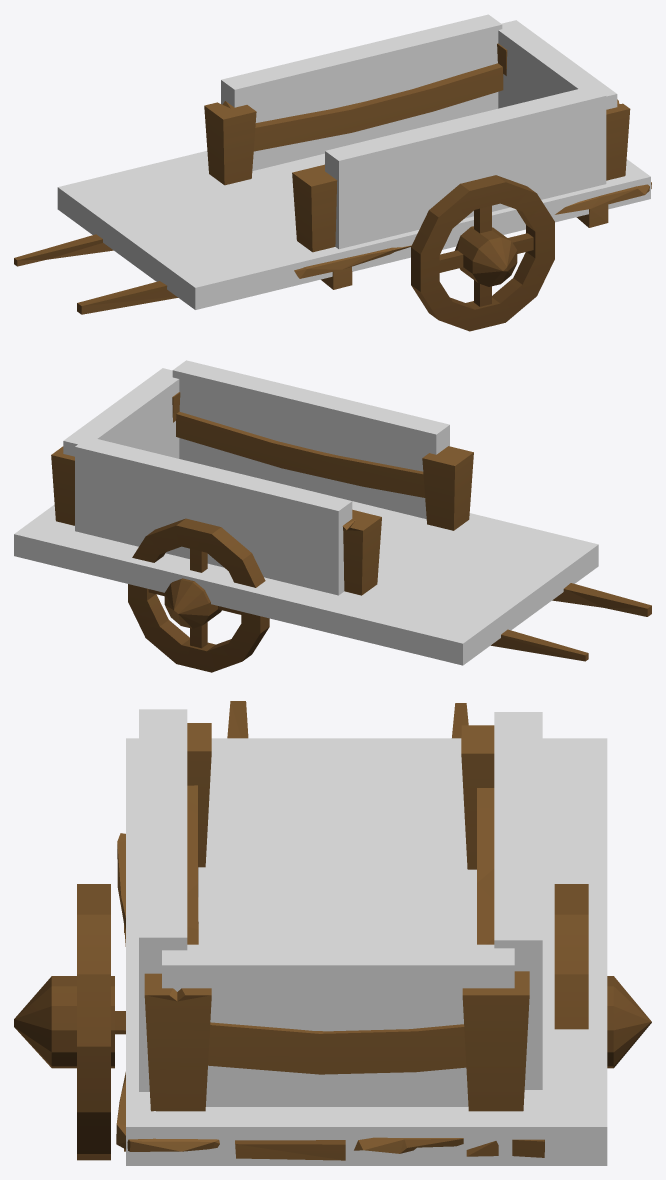
The model's file is cart_1.glb.
The picture shows the model from 3 angles, top to bottom: view 1: azimuth 30°, elevation 25°; view 2: azimuth 150°, elevation 25°; view 3: azimuth 270°, elevation 25°; orthographic projection. The views are drawn at different scales.
Parts seen in each view (by area): view 1: Cart_01, Cube.001, Cube.011, Cube.002, Cube.003; view 2: Cube.001, Cart_01, Cube.002, Cube.011, Cube.003; view 3: Cube.001, Cart_01, Cube.003, Cube.002, Cube.011.
Part boxes in pixels (bbox=[...]): Cart_01: bbox=[14, 43, 651, 331]; Cube.001: bbox=[57, 151, 650, 309]; Cube.011: bbox=[325, 85, 606, 249]; Cube.002: bbox=[221, 14, 502, 170]; Cube.003: bbox=[498, 20, 617, 109]; Cube.001: bbox=[14, 501, 598, 665]; Cart_01: bbox=[51, 392, 651, 672]; Cube.002: bbox=[75, 437, 352, 595]; Cube.011: bbox=[172, 360, 449, 518]; Cube.003: bbox=[63, 368, 179, 458]; Cube.001: bbox=[126, 738, 607, 1165]; Cart_01: bbox=[14, 701, 651, 1160]; Cube.003: bbox=[162, 944, 514, 1106]; Cube.002: bbox=[494, 712, 542, 1089]; Cube.011: bbox=[139, 709, 187, 1091].
Size of the model in its own units: 3.03 by 0.9835 by 1.76.
1 material, 1 textured.
